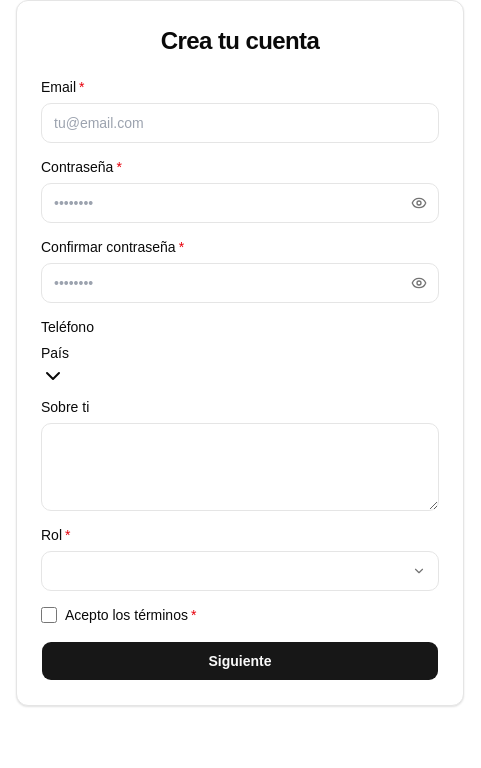
Test: required extra fields report their own messages and take the focus
In the field labelled "Email*": (240, 123) [41, 103, 439, 143], type "ana@empresa.com"
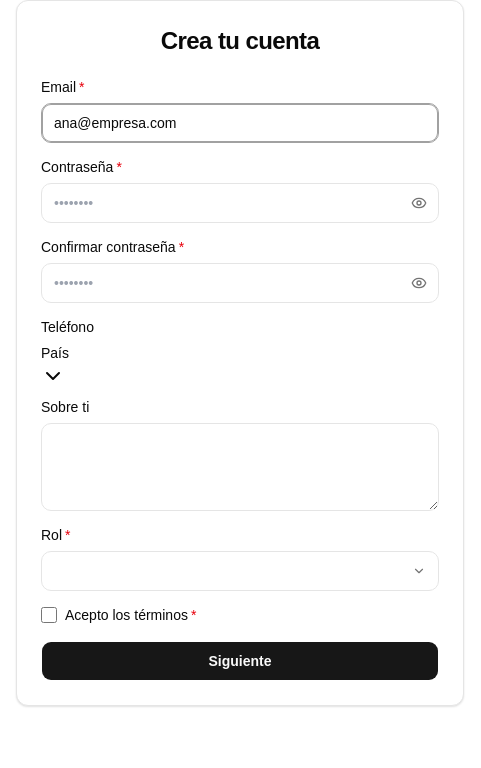
In the password field labelled "Contraseña*": (240, 203) [41, 183, 439, 223], type "Clave-123"
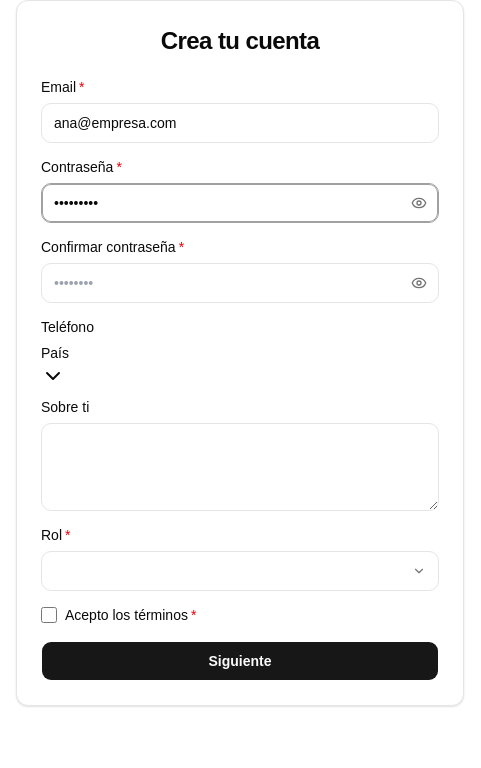
In the password field labelled "Confirmar contraseña*": (240, 283) [41, 263, 439, 303], type "Clave-123"
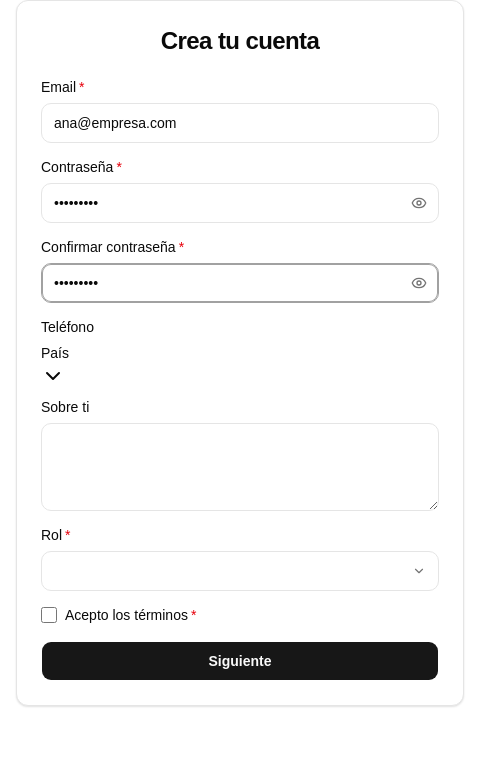
Click the button "Siguiente": (240, 661) [41, 641, 439, 681]
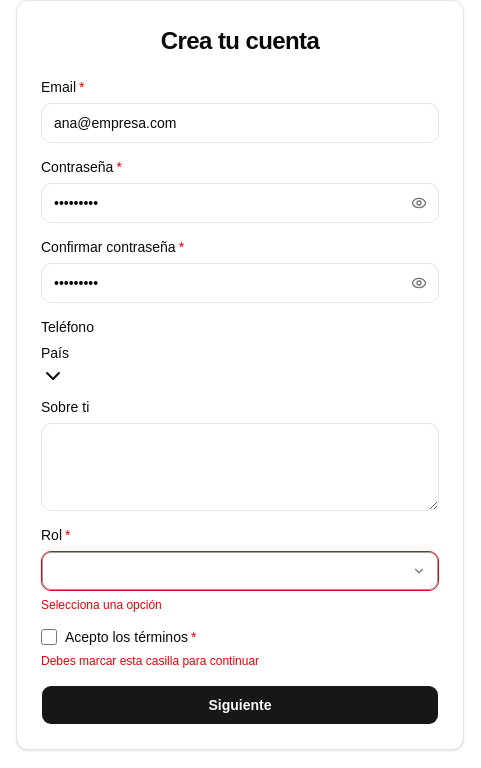
Now the text "Selecciona una opción" is shown, box [41, 598, 162, 612]
Now the text "Debes marcar esta casilla para continuar" is shown, box [41, 654, 259, 668]
